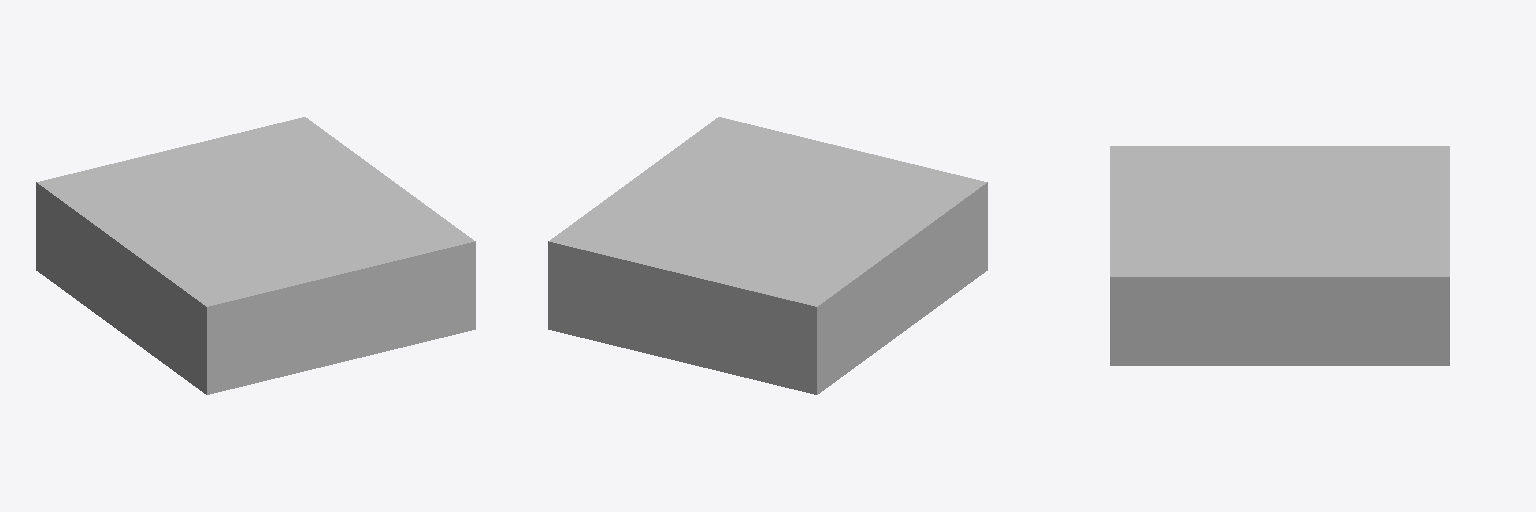
3 renders of one model, left to right at view 1: azimuth 30°, elevation 25°; view 2: azimuth 150°, elevation 25°; view 3: azimuth 270°, elevation 25°, orthographic.
Parts seen in each view (by area): view 1: entity0_brush55, entity0_brush53, entity0_brush52, entity0_brush56, entity0_brush59, entity0_brush1, entity0_brush0; view 2: entity0_brush55, entity0_brush51, entity0_brush52, entity0_brush58, entity0_brush59, entity0_brush1, entity0_brush0; view 3: entity0_brush55, entity0_brush54, entity0_brush57, entity0_brush0.
Part boxes in pixels (bbox=[...]): entity0_brush55: bbox=[36, 117, 475, 309]; entity0_brush53: bbox=[209, 244, 475, 372]; entity0_brush52: bbox=[38, 187, 208, 372]; entity0_brush56: bbox=[205, 308, 475, 391]; entity0_brush59: bbox=[38, 250, 204, 390]; entity0_brush1: bbox=[36, 268, 269, 394]; entity0_brush0: bbox=[270, 327, 475, 379]; entity0_brush55: bbox=[548, 117, 987, 309]; entity0_brush51: bbox=[548, 244, 818, 372]; entity0_brush52: bbox=[819, 185, 987, 371]; entity0_brush58: bbox=[551, 308, 818, 391]; entity0_brush59: bbox=[819, 250, 985, 390]; entity0_brush1: bbox=[754, 268, 987, 394]; entity0_brush0: bbox=[548, 327, 753, 379]; entity0_brush55: bbox=[1110, 146, 1449, 279]; entity0_brush54: bbox=[1113, 280, 1446, 343]; entity0_brush57: bbox=[1113, 344, 1449, 362]; entity0_brush0: bbox=[1110, 363, 1449, 365].
Size of the model in its own units: 1632 by 512 by 1792.